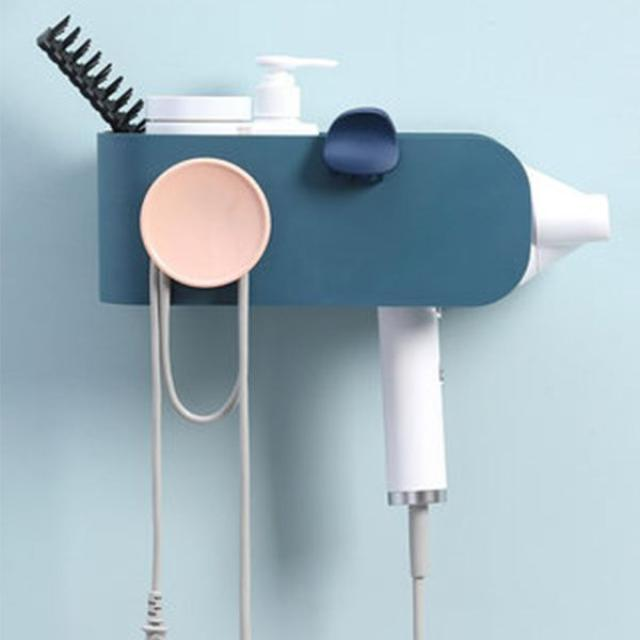dryer: (320, 99, 620, 636)
